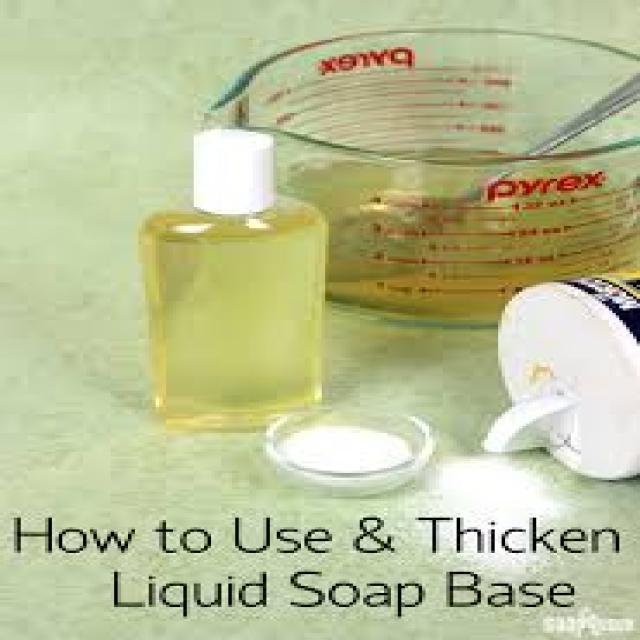liquid soap: (129, 131, 336, 427)
